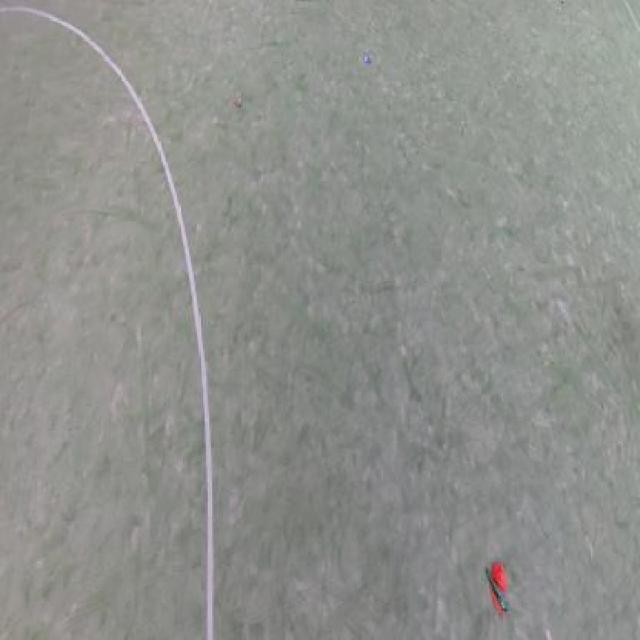Garbage: (490, 560, 508, 618), (485, 567, 508, 611), (234, 90, 241, 107), (363, 53, 372, 64)
